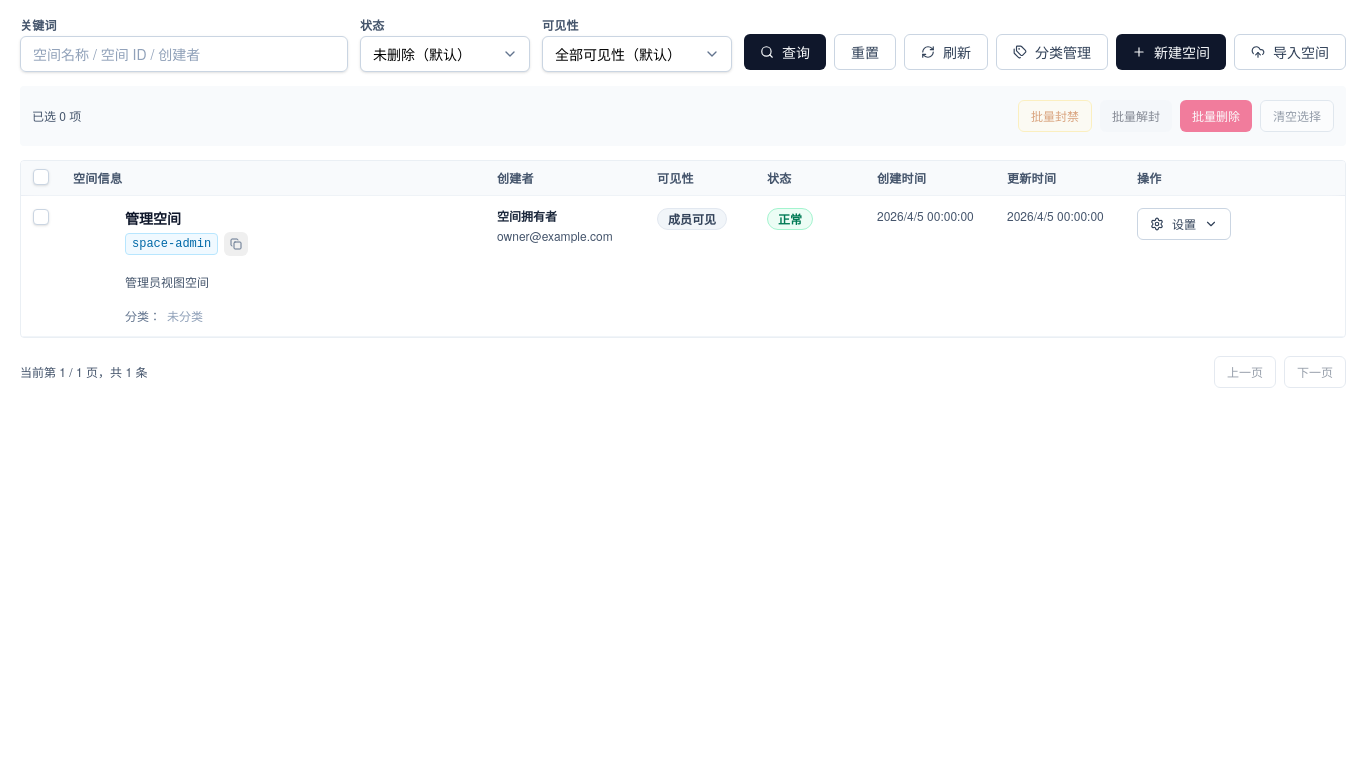
AdminSpacesPage › keeps the export event stream in the floating panel after the dialog closes
Click the button with aria-label "展开更多操作": (1184, 224) [1137,208,1231,240]
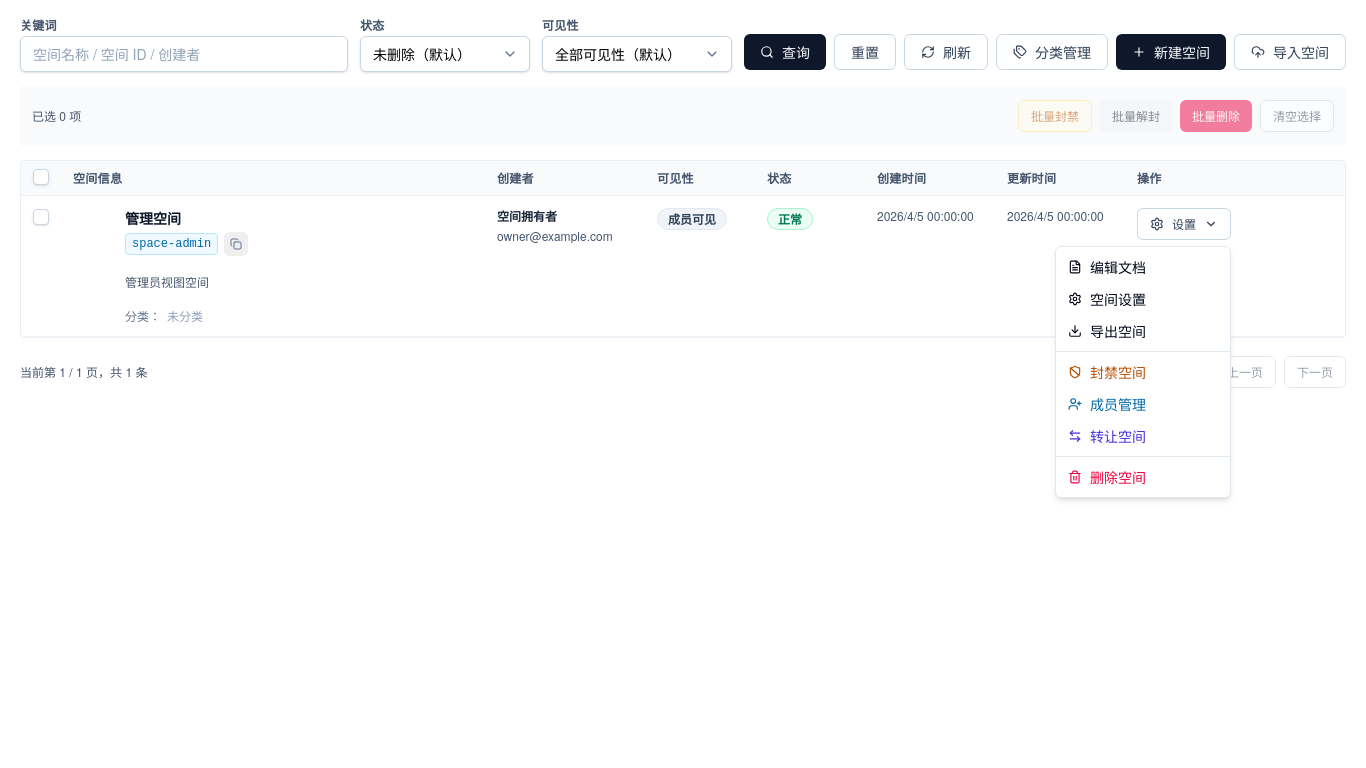
Click the menu item "导出空间": (1107, 331) [1068,321,1146,341]
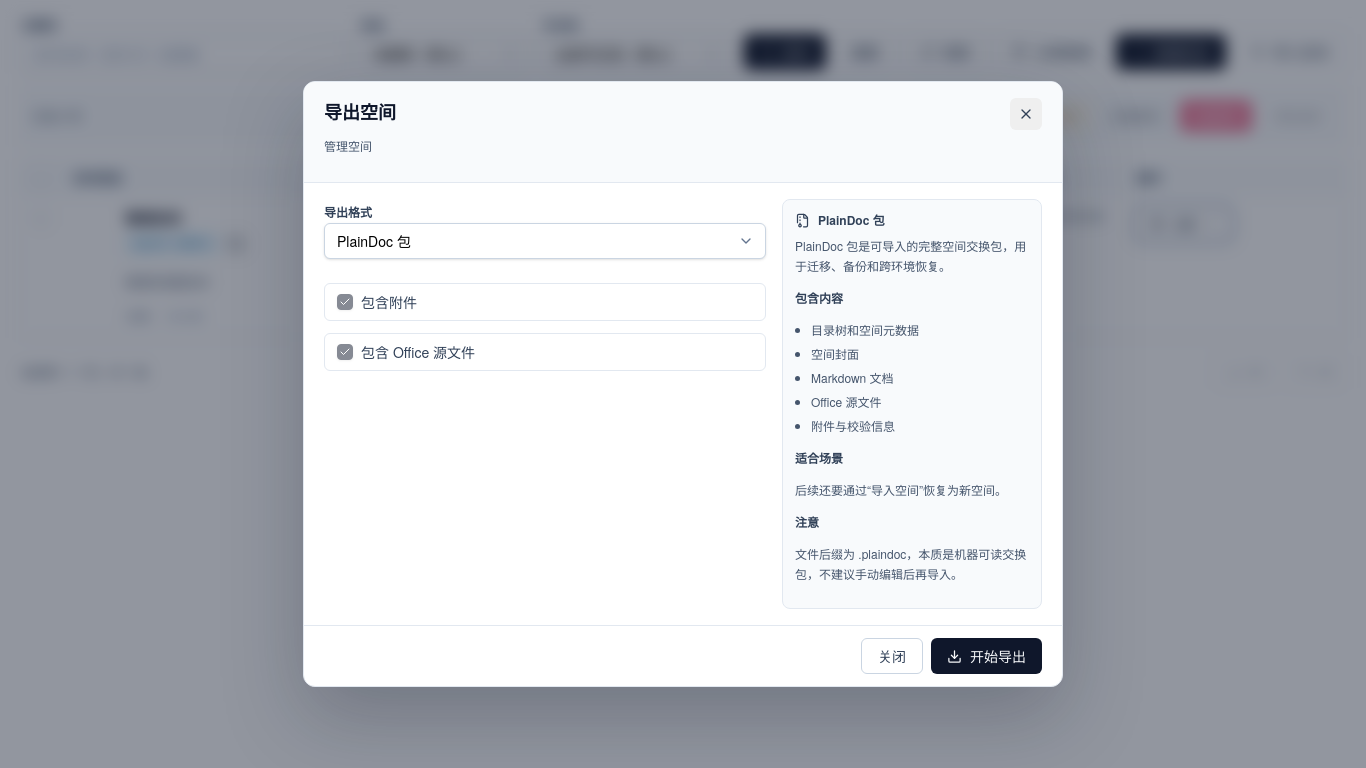
Click the button "开始导出": (986, 656) [931,638,1042,674]
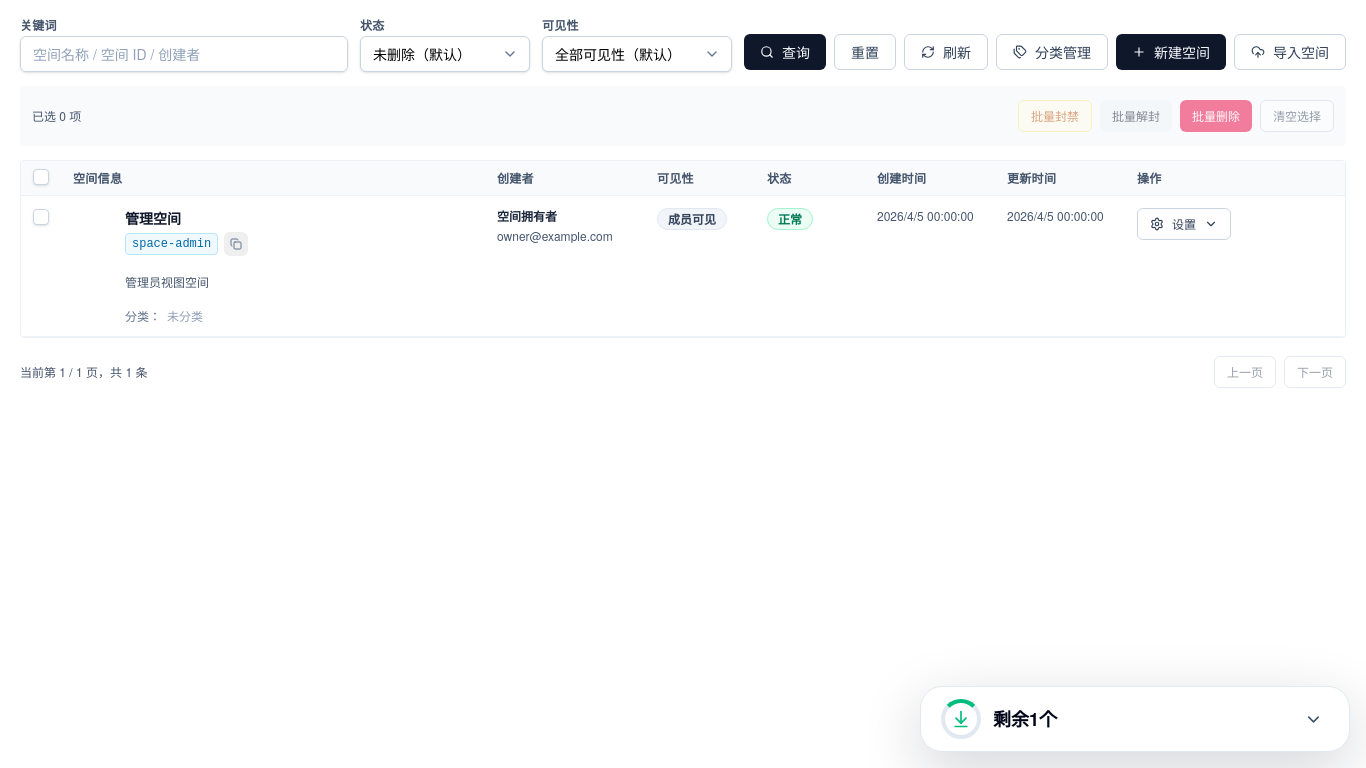
Expected: the button "开始导出" is gone
Click the button named "展开任务中心": (1313, 719) [1297,703,1329,735]
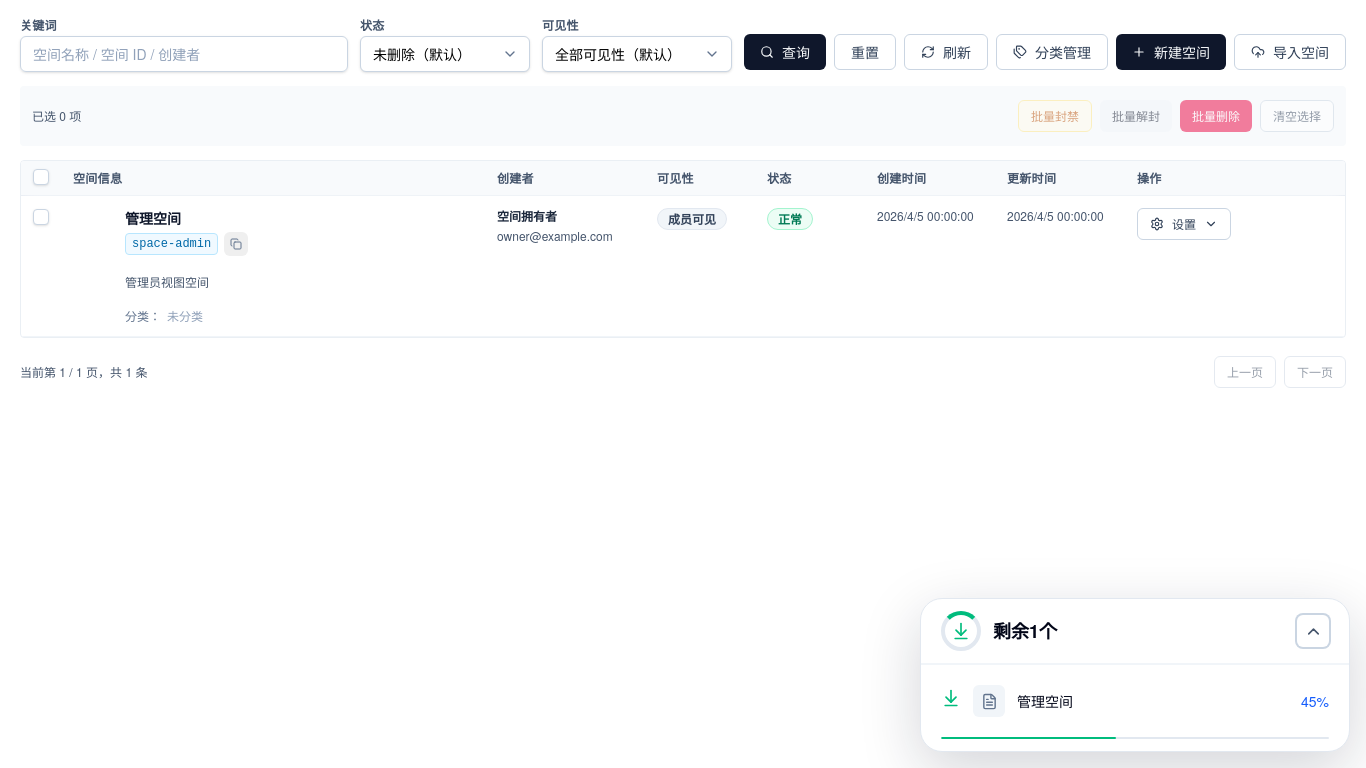
Expected: the text "45%" is shown, [1301,691,1329,711]
